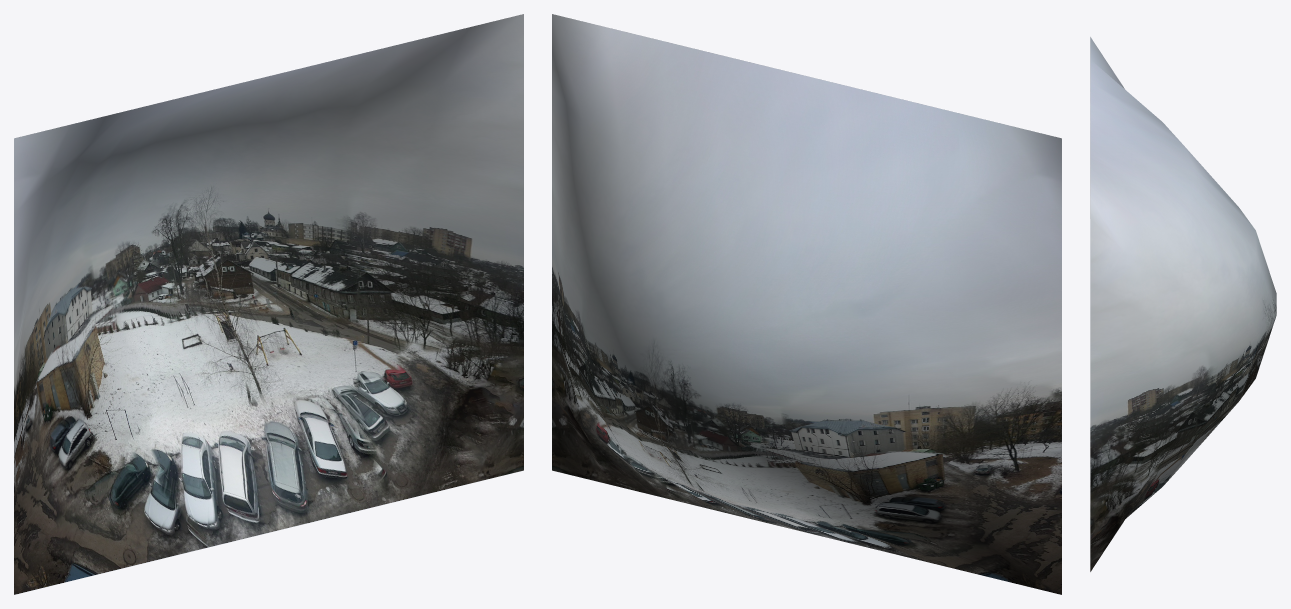
The model's file is background.FBX.
3 renders of one model, left to right at view 1: azimuth 30°, elevation 25°; view 2: azimuth 150°, elevation 25°; view 3: azimuth 270°, elevation 25°, orthographic. The views are drawn at different scales.
Visible parts, largest first — view 1: Plane001; view 2: Plane001; view 3: Plane001.
Boxes of the visible parts, left/top/right/bottom form: Plane001: left=14, top=14, right=523, bottom=594; Plane001: left=552, top=14, right=1061, bottom=594; Plane001: left=1090, top=37, right=1276, bottom=571.
Bounding box in the file's own units: 60.46 × 51.75 × 23.2.
1 material, 1 textured.
